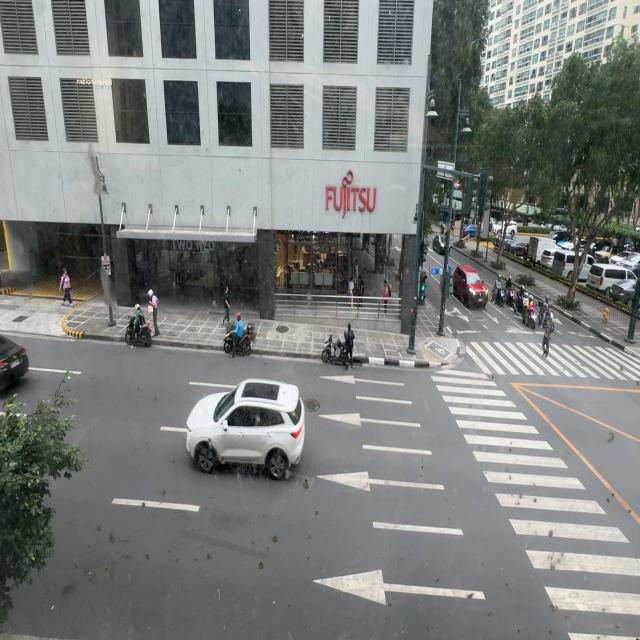crossing: (542, 304, 554, 356)
pedestrain: (60, 269, 74, 307), (222, 287, 230, 326), (382, 279, 390, 315), (357, 276, 364, 312), (348, 278, 355, 310)
